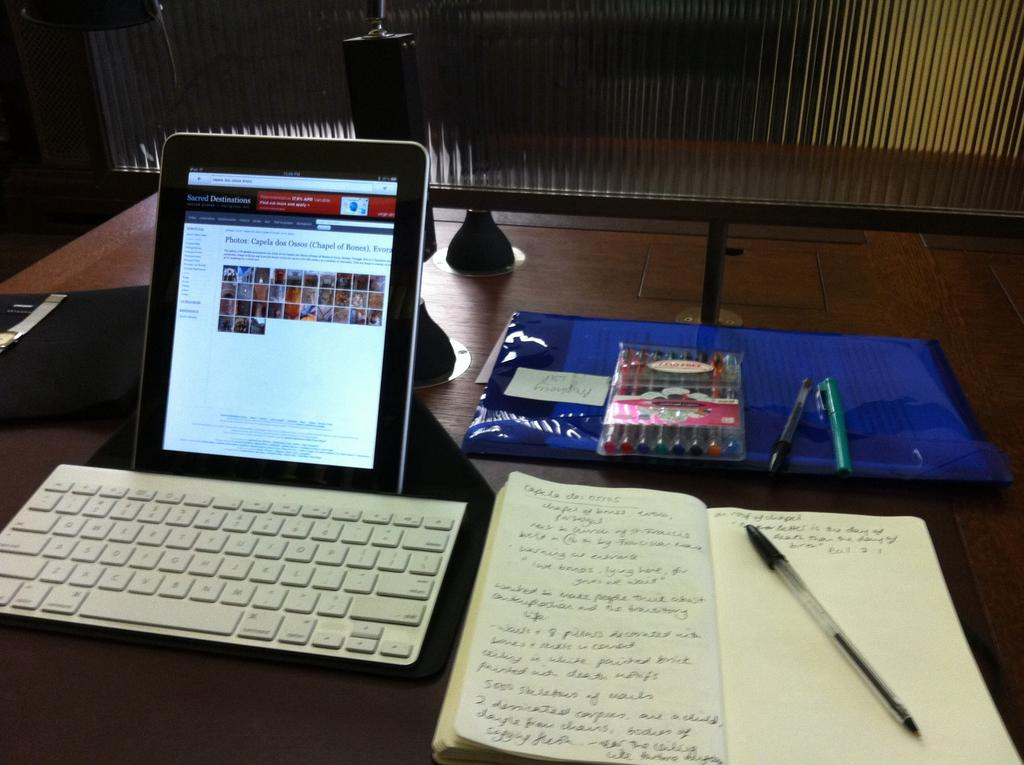pen: (744, 519, 924, 741), (768, 378, 814, 482), (822, 371, 860, 481)
